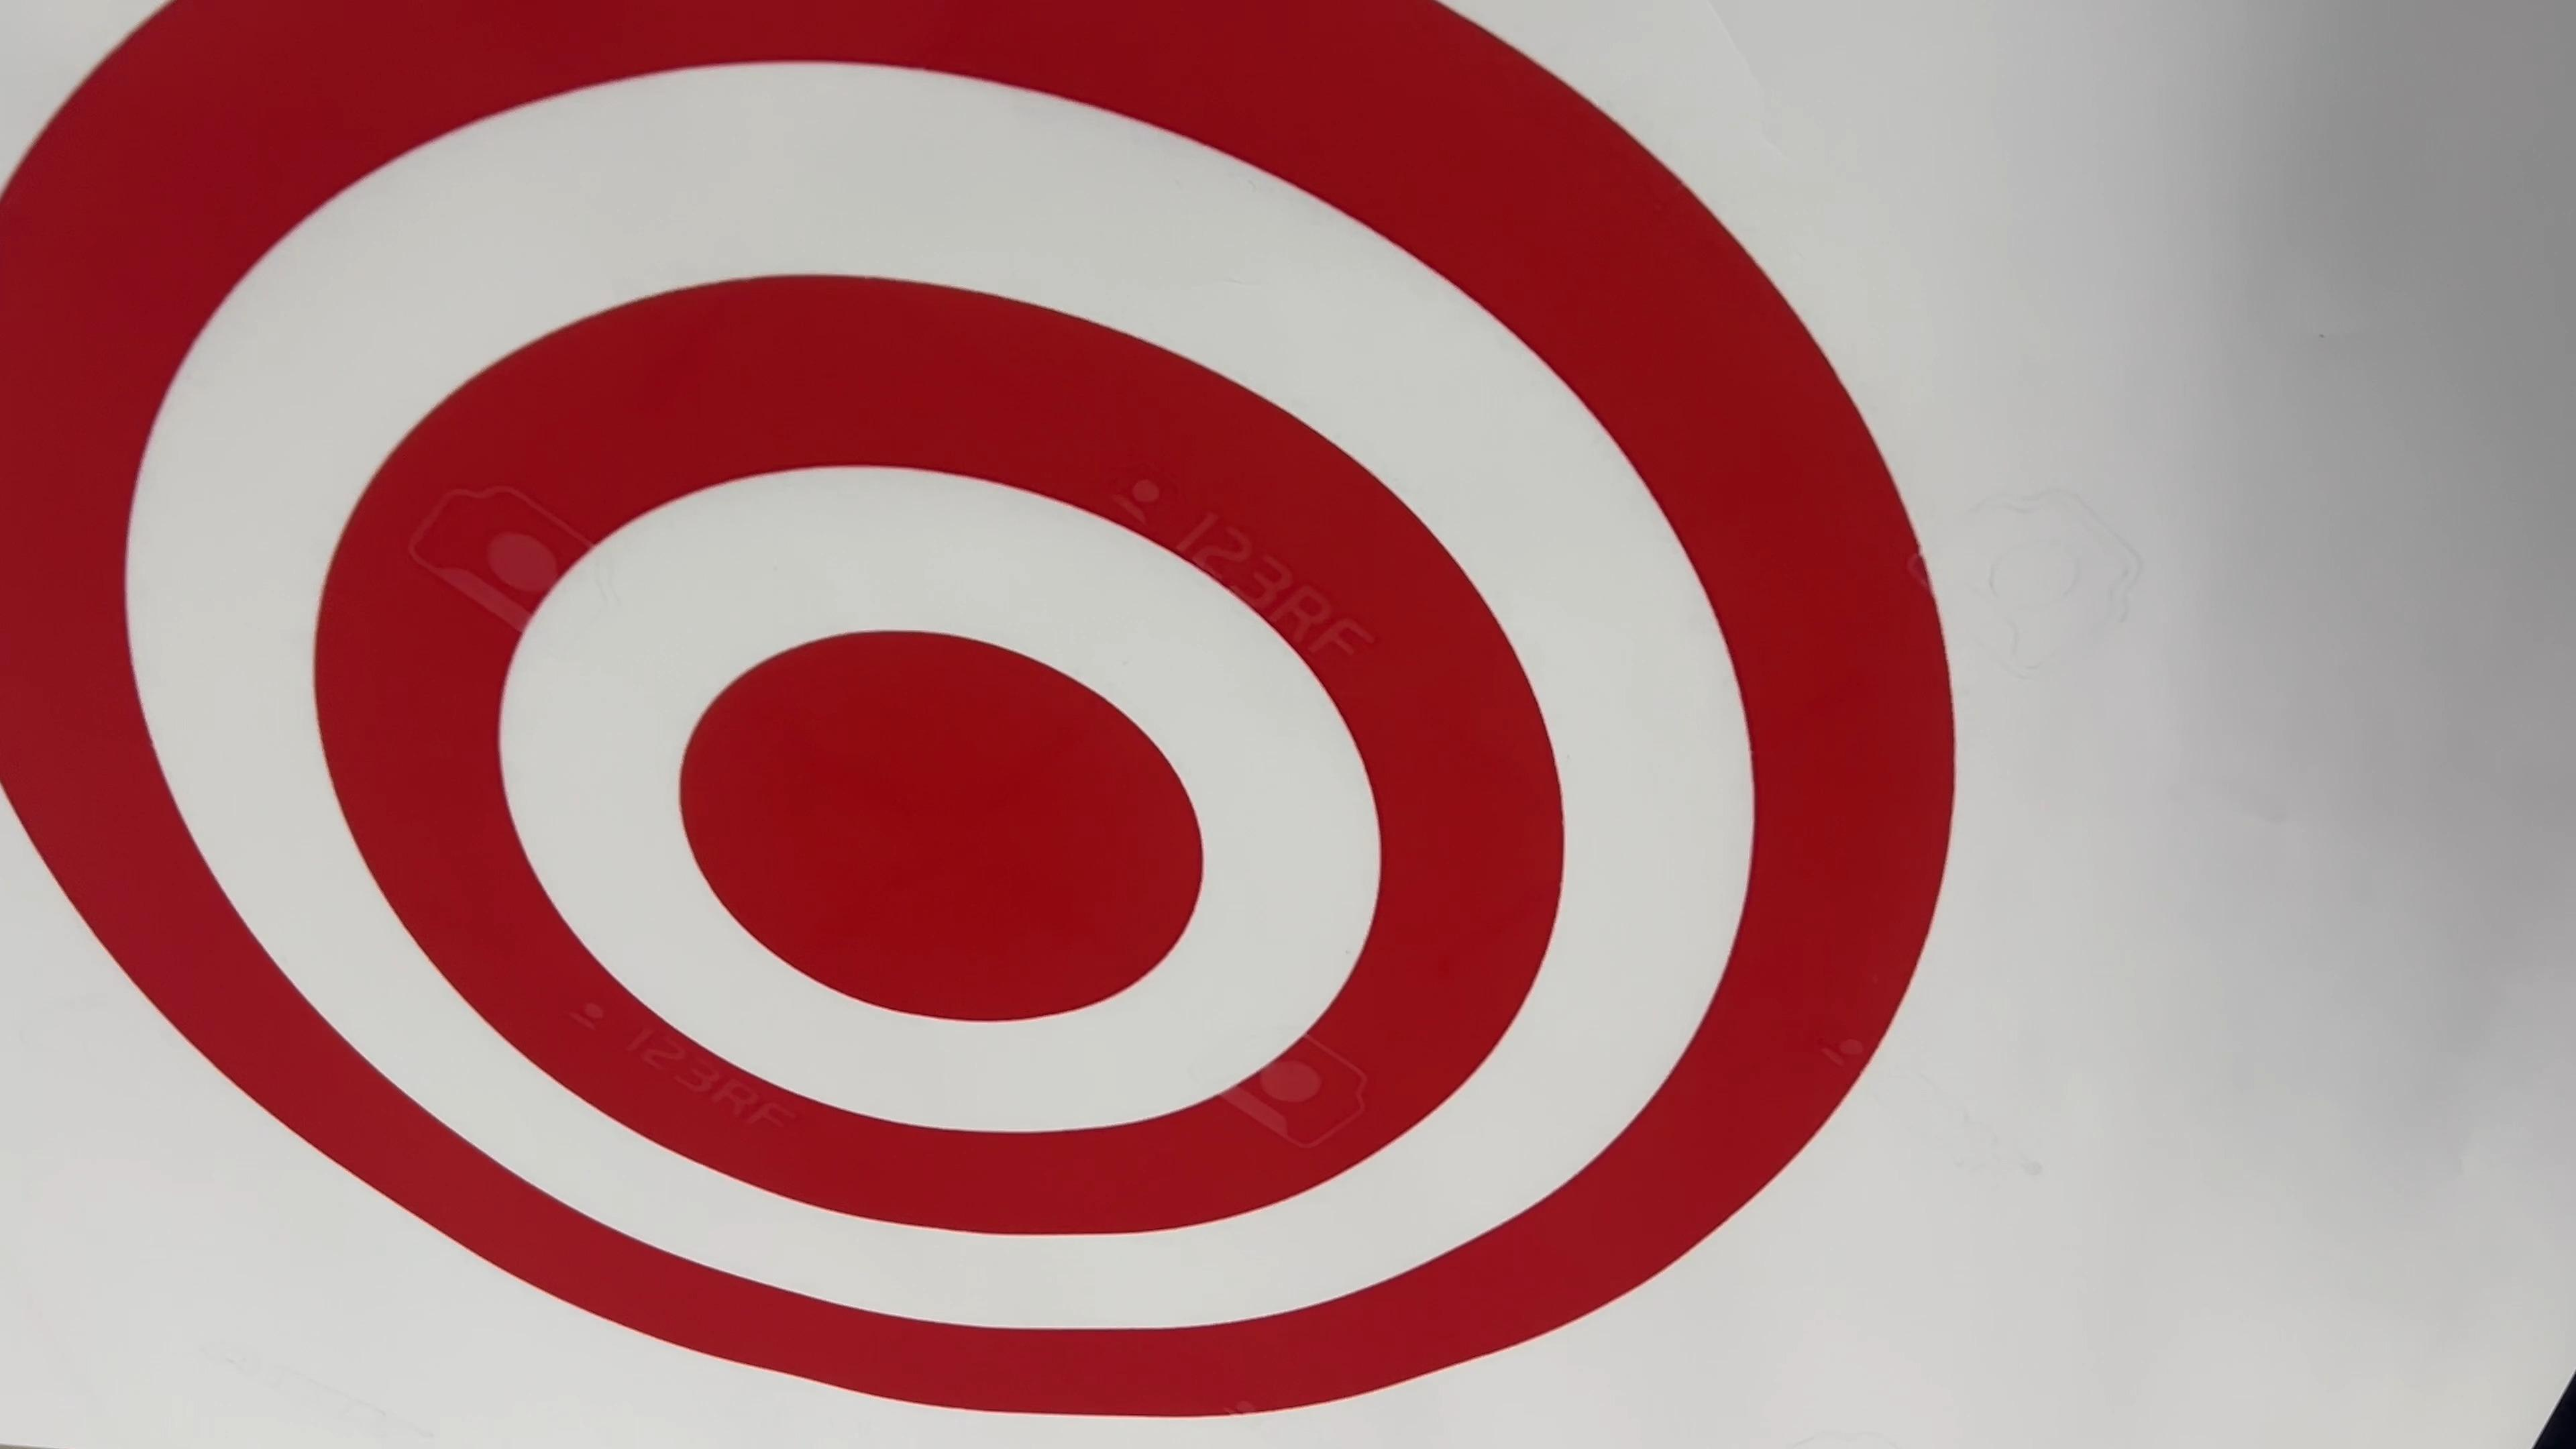target_red: (7, 2, 1974, 1428)
